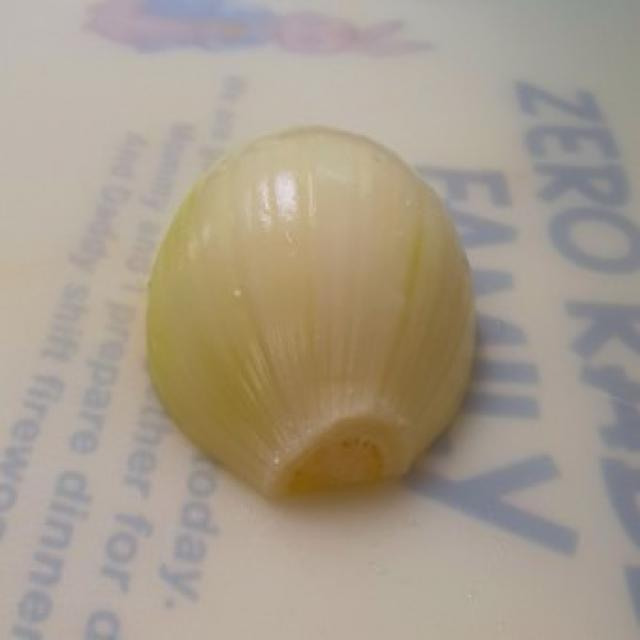onion: (115, 92, 531, 534)
